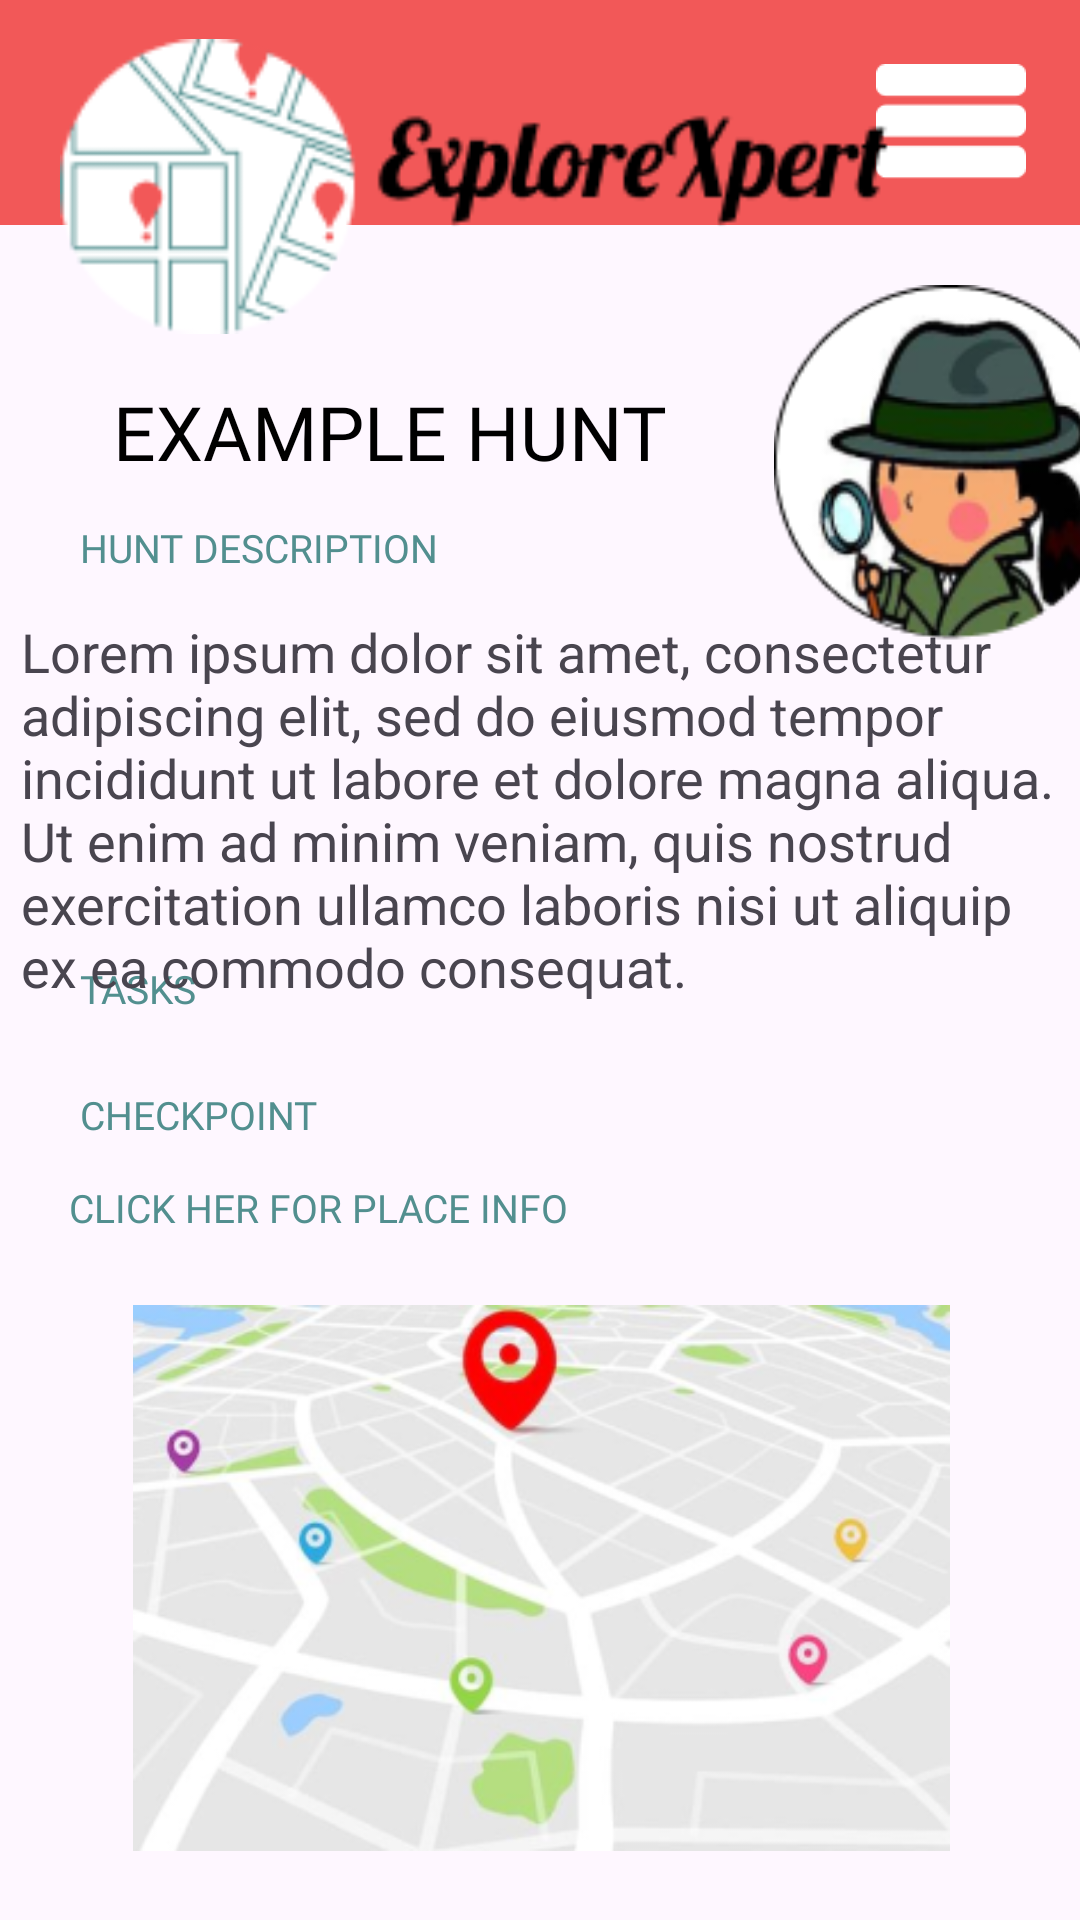

Named icons in this screenshot (1080x1920) and their bounding boxes, (x1, y1, x2, y2):
Menu Button: (876, 64, 1026, 196)
